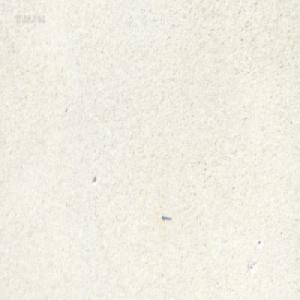Nail: (161, 212, 171, 220)
